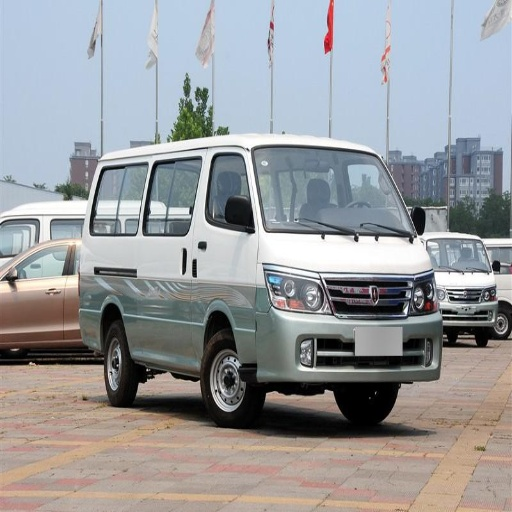front_bumper: (243, 271, 440, 386)
front_glass: (252, 146, 412, 236)
front_left_door: (4, 285, 61, 339)
front_right_door: (200, 151, 258, 273)
front_right_light: (267, 270, 329, 313)
hood: (269, 233, 435, 274)
trunk: (77, 238, 242, 371)
